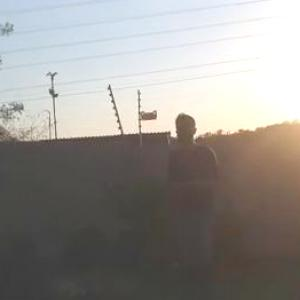follow: (164, 106, 226, 299)
